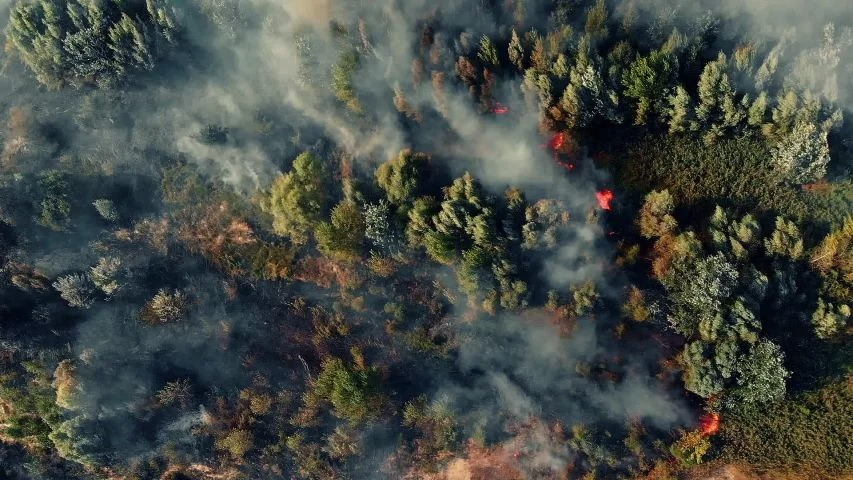forest_fire: (699, 411, 719, 435), (595, 189, 612, 210), (548, 132, 565, 151), (492, 102, 509, 113)
